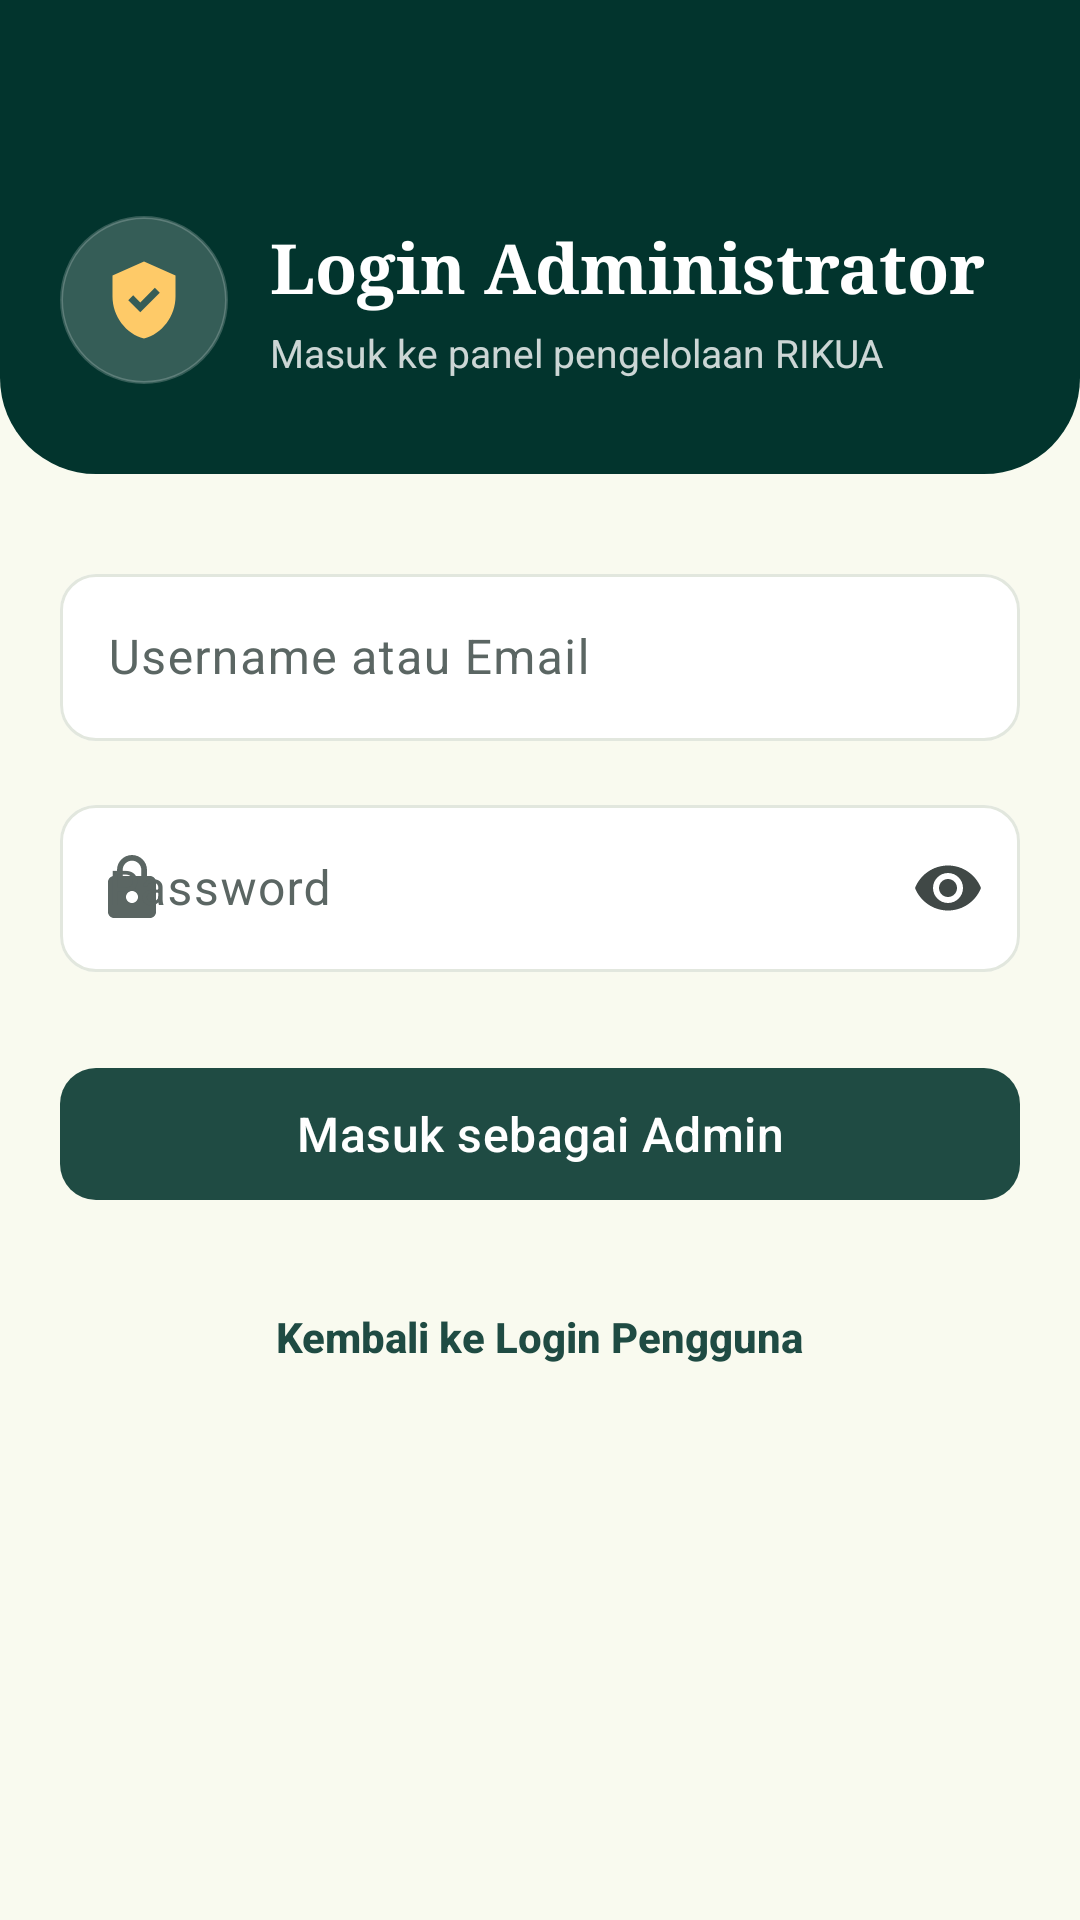

Icon bounding boxes for this 1080w x 1920h phone screenshot, format bbox=[x1, y1, x2, y2]:
policy shield: bbox=[112, 261, 176, 339]
